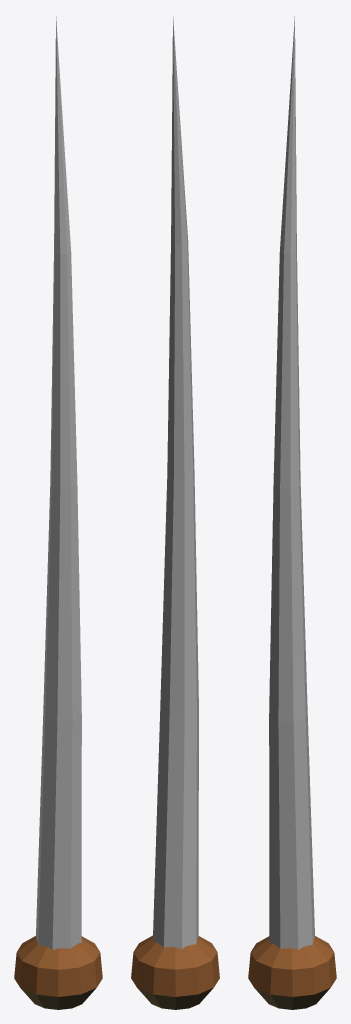
3 views of the same model, side by side, from view 1: azimuth 30°, elevation 25°; view 2: azimuth 150°, elevation 25°; view 3: azimuth 330°, elevation 25° (orthographic).
Visible parts, largest first — view 1: Sword2; view 2: Sword2; view 3: Sword2.
Part boxes in pixels (x1=…): Sword2: x1=14, y1=16, x2=102, y2=1009; Sword2: x1=131, y1=16, x2=219, y2=1009; Sword2: x1=248, y1=16, x2=336, y2=1009.
Size of the model in its own units: 10.84 by 10.84 by 133.
1 material, 1 textured.
